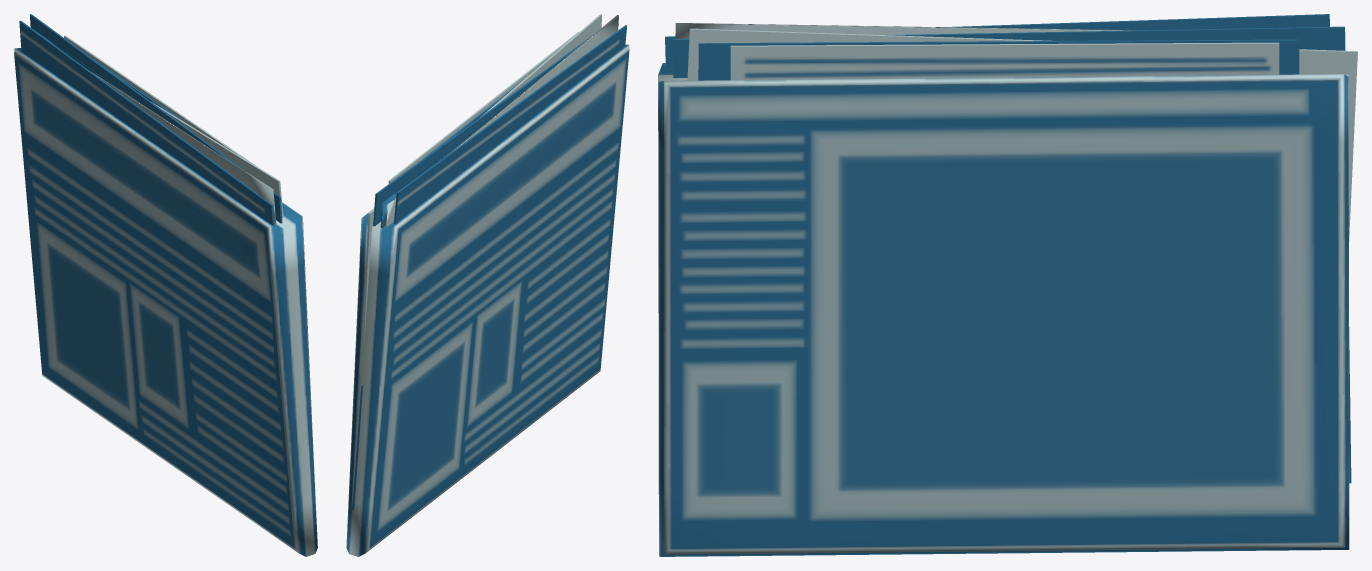
The model's file is krant.fbx.
3 renders of one model, left to right at view 1: azimuth 30°, elevation 25°; view 2: azimuth 150°, elevation 25°; view 3: azimuth 270°, elevation 25°, orthographic. The views are drawn at different scales.
Visible parts, largest first — view 1: krant; view 2: krant; view 3: krant.
Part boxes in pixels (x1,y1,x2,y2): krant: (14,14,317,556); krant: (346,14,629,556); krant: (658,14,1357,556).
Bounding box in the file's own units: 0.1007 × 0.581 × 0.7193.
1 material, 1 textured.
